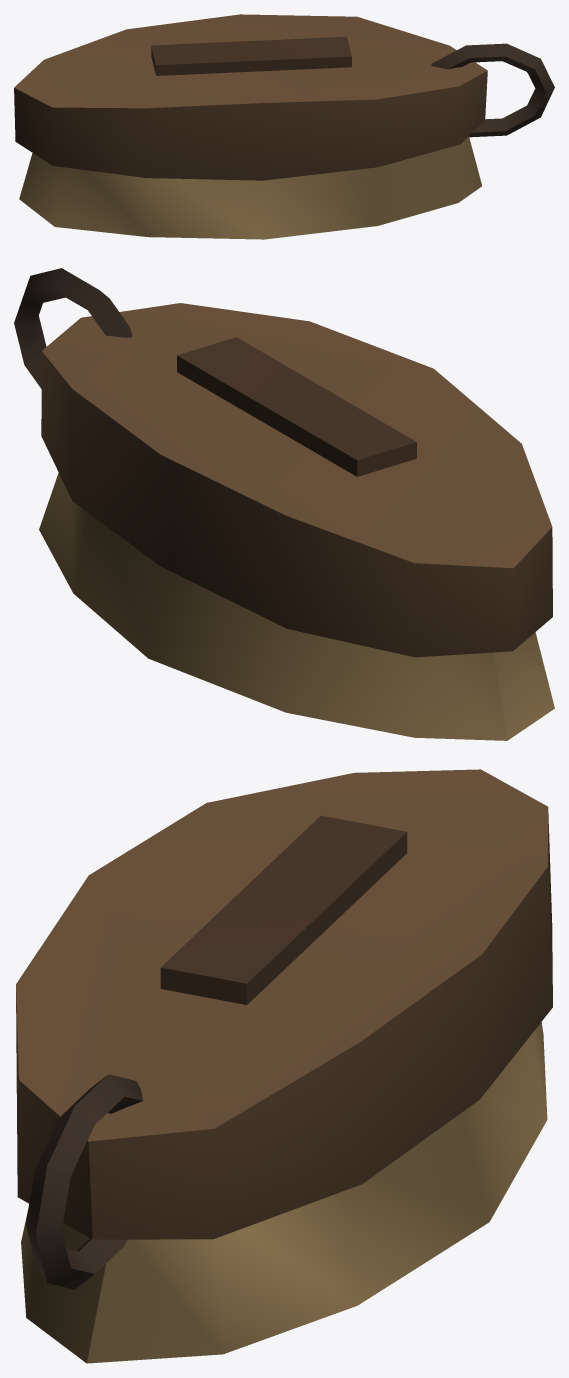
The model's file is ph_item_scrub_brush.glb.
The picture shows the model from 3 angles, top to bottom: view 1: azimuth 30°, elevation 25°; view 2: azimuth 150°, elevation 25°; view 3: azimuth 270°, elevation 25°; orthographic projection. The views are drawn at different scales.
Visible parts, largest first — view 1: ph_item_scrub_brush; view 2: ph_item_scrub_brush; view 3: ph_item_scrub_brush.
Part boxes in pixels (bbox=[...]): ph_item_scrub_brush: bbox=[14, 14, 554, 239]; ph_item_scrub_brush: bbox=[14, 268, 554, 740]; ph_item_scrub_brush: bbox=[16, 769, 552, 1363].
Bounding box in the file's own units: 0.2521 × 0.0812 × 0.1364.
